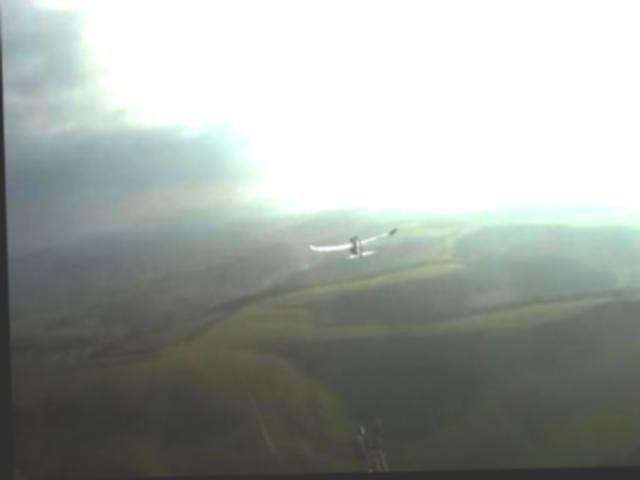iha: (307, 231, 392, 260)
